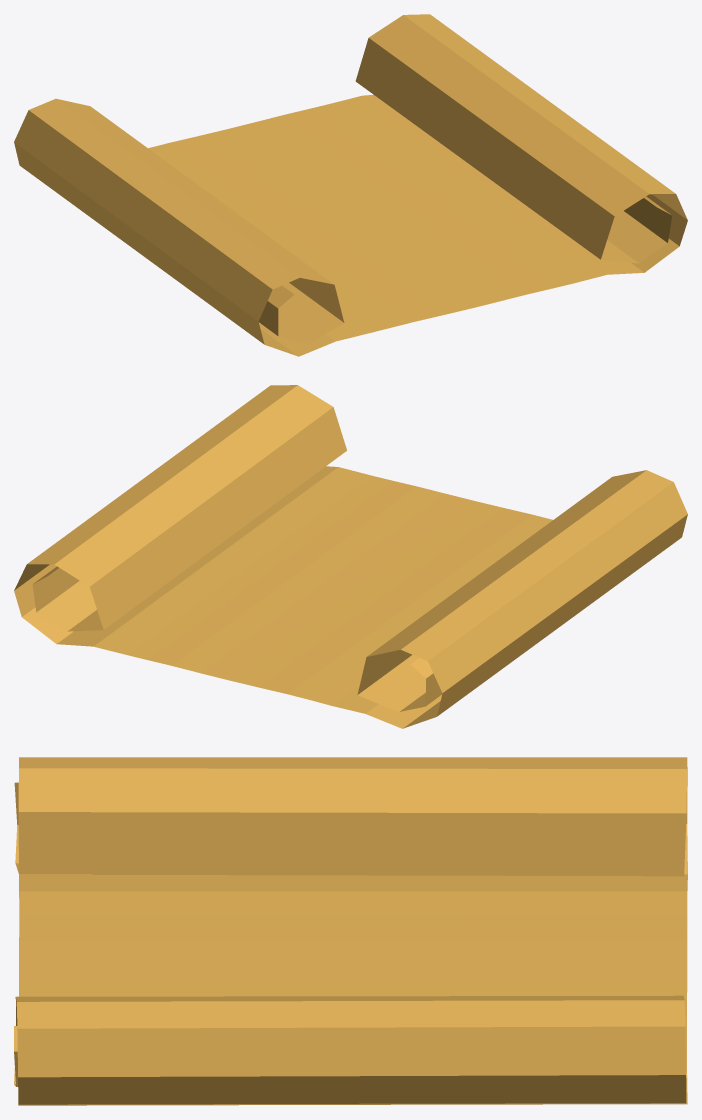
File: свиток там вроде анимация есть.fbx
The picture shows the model from 3 angles, top to bottom: view 1: azimuth 30°, elevation 25°; view 2: azimuth 150°, elevation 25°; view 3: azimuth 270°, elevation 25°; orthographic projection. The views are drawn at different scales.
Parts seen in each view (by area): view 1: BézierCurve; view 2: BézierCurve; view 3: BézierCurve.
Part boxes in pixels (x1,y1,x2,y2): BézierCurve: (14, 14, 687, 356); BézierCurve: (14, 385, 687, 728); BézierCurve: (14, 757, 687, 1105).
Bounding box in the file's own units: 122 × 21.55 × 122.
